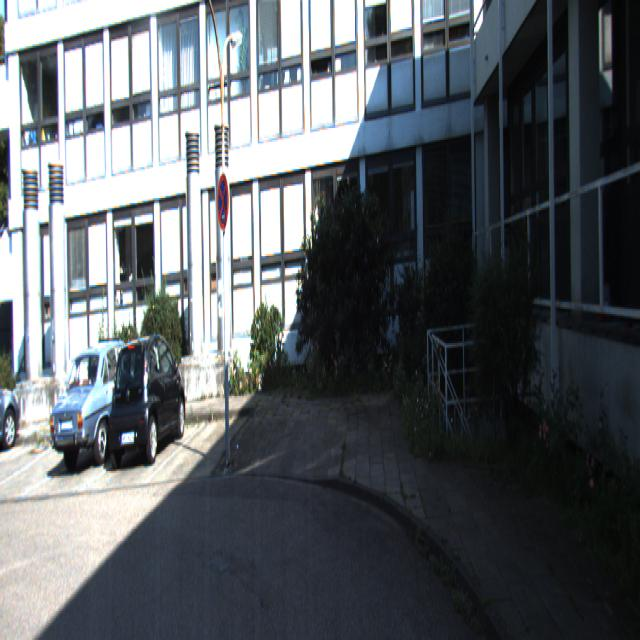Car: (48, 336, 154, 476), (107, 334, 187, 465), (0, 356, 22, 462)
